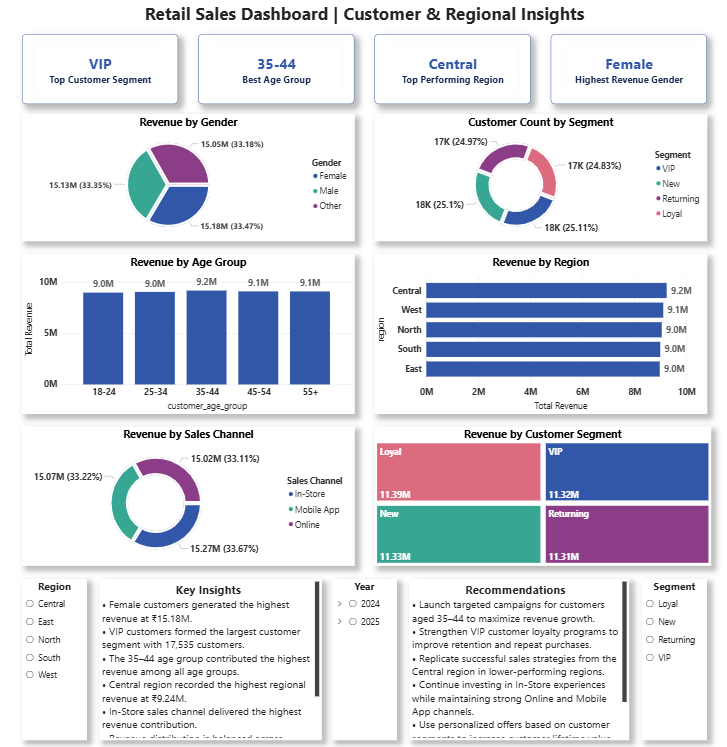

This screenshot's page, from the dashboard's own definition file:
{"tool":"powerbi","page":{"name":"Customer & Regional  Insights","canvas":[1366,1400],"ordinal":2},"visuals":[{"type":"textbox","box":[46,0,1274.7,65.3],"z":0},{"type":"cardVisual","fields":{"Data":["retail_sales_dataset.Top Customer Segment"]},"box":[46,65.3,290.3,130.6],"z":1000},{"type":"cardVisual","fields":{"Data":["retail_sales_dataset.Best Age Group"]},"box":[374.9,65.3,290.3,130.6],"z":2000},{"type":"cardVisual","fields":{"Data":["retail_sales_dataset.Best Region"]},"box":[701.5,65.3,290.3,130.6],"z":3000},{"type":"clusteredBarChart","title":"Revenue by Region","fields":{"Category":["retail_sales_dataset.region"],"Y":["retail_sales_dataset.Total Revenue"]},"box":[701.5,474.1,619.2,297.5],"z":4000},{"type":"clusteredColumnChart","title":"Revenue by Age Group","fields":{"Y":["retail_sales_dataset.Total Revenue","select"],"Category":["retail_sales_dataset.customer_age_group"]},"box":[46,474.1,619.2,297.5],"z":5000},{"type":"donutChart","title":"Customer Count by Segment","fields":{"Category":["retail_sales_dataset.customer_segment"],"Y":["retail_sales_dataset.Total Customers"]},"box":[701.5,212.9,619.2,237],"z":6000},{"type":"pieChart","title":"Revenue by Gender","fields":{"Category":["retail_sales_dataset.customer_gender"],"Y":["retail_sales_dataset.Total Revenue"]},"box":[46,212.9,619.2,237],"z":7000},{"type":"donutChart","title":"Revenue by Sales Channel","fields":{"Category":["retail_sales_dataset.sales_channel"],"Y":["retail_sales_dataset.Total Revenue"]},"box":[46,795.8,619.2,258.8],"z":8000},{"type":"treemap","title":"Revenue by Customer Segment","fields":{"Group":["retail_sales_dataset.customer_segment"],"Values":["retail_sales_dataset.Total Revenue"]},"box":[701.5,795.8,626.5,258.8],"z":9000},{"type":"listSlicer","fields":{"Values":["retail_sales_dataset.transaction_date.Variation.Date Hierarchy.Year","retail_sales_dataset.transaction_date.Variation.Date Hierarchy.Quarter","retail_sales_dataset.transaction_date.Variation.Date Hierarchy.Month","retail_sales_dataset.transaction_date.Variation.Date Hierarchy.Day"]},"box":[624.1,1078.8,120.9,299.9],"z":10000},{"type":"listSlicer","title":"Region","fields":{"Values":["retail_sales_dataset.region"]},"box":[46,1078.8,120.9,299.9],"z":11000},{"type":"listSlicer","title":"Segment","fields":{"Values":["retail_sales_dataset.customer_segment"]},"box":[1199.7,1078.8,120.9,299.9],"z":12000},{"type":"cardVisual","fields":{"Data":["retail_sales_dataset.Best Gender"]},"box":[1030.4,65.3,290.3,130.6],"z":14000},{"type":"textbox","box":[766.8,1078.8,408.8,299.9],"z":15000},{"type":"textbox","box":[191.1,1078.8,413.6,299.9],"z":16000}]}

Visuals, with their boxes in screenshot pixels (x1, y1, x2, y2), scaled from the page's 1366x1400 canvas onto the 727x747 screenshot:
textbox: <region>24, 0, 703, 35</region>
cardVisual - retail_sales_dataset.Top Customer Segment: <region>24, 35, 179, 105</region>
cardVisual - retail_sales_dataset.Best Age Group: <region>200, 35, 354, 105</region>
cardVisual - retail_sales_dataset.Best Region: <region>373, 35, 528, 105</region>
"Revenue by Region" clusteredBarChart: <region>373, 253, 703, 412</region>
"Revenue by Age Group" clusteredColumnChart: <region>24, 253, 354, 412</region>
"Customer Count by Segment" donutChart: <region>373, 114, 703, 240</region>
"Revenue by Gender" pieChart: <region>24, 114, 354, 240</region>
"Revenue by Sales Channel" donutChart: <region>24, 425, 354, 563</region>
"Revenue by Customer Segment" treemap: <region>373, 425, 707, 563</region>
listSlicer - retail_sales_dataset.transaction_date.Variation.Date Hierarchy.Year x retail_sales_dataset.transaction_date.Variation.Date Hierarchy.Quarter: <region>332, 576, 396, 736</region>
"Region" listSlicer: <region>24, 576, 89, 736</region>
"Segment" listSlicer: <region>638, 576, 703, 736</region>
cardVisual - retail_sales_dataset.Best Gender: <region>548, 35, 703, 105</region>
textbox: <region>408, 576, 626, 736</region>
textbox: <region>102, 576, 322, 736</region>
